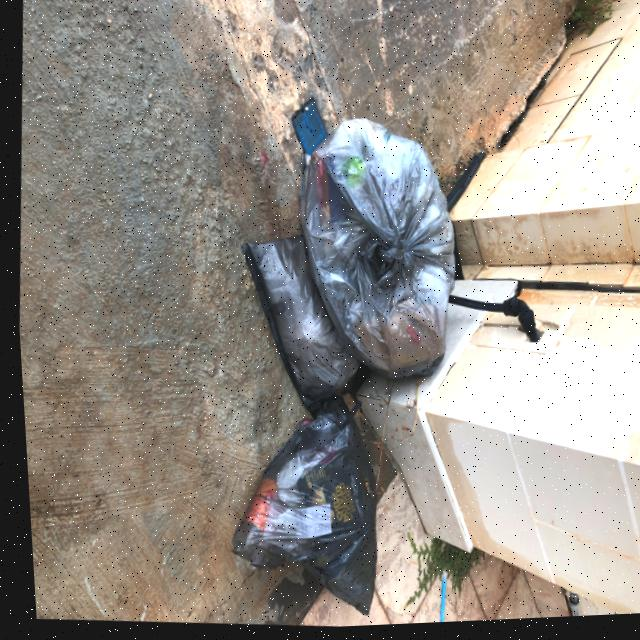Mixed Waste -Black Bag-: (283, 115, 467, 389), (213, 392, 385, 626), (224, 230, 370, 419)
